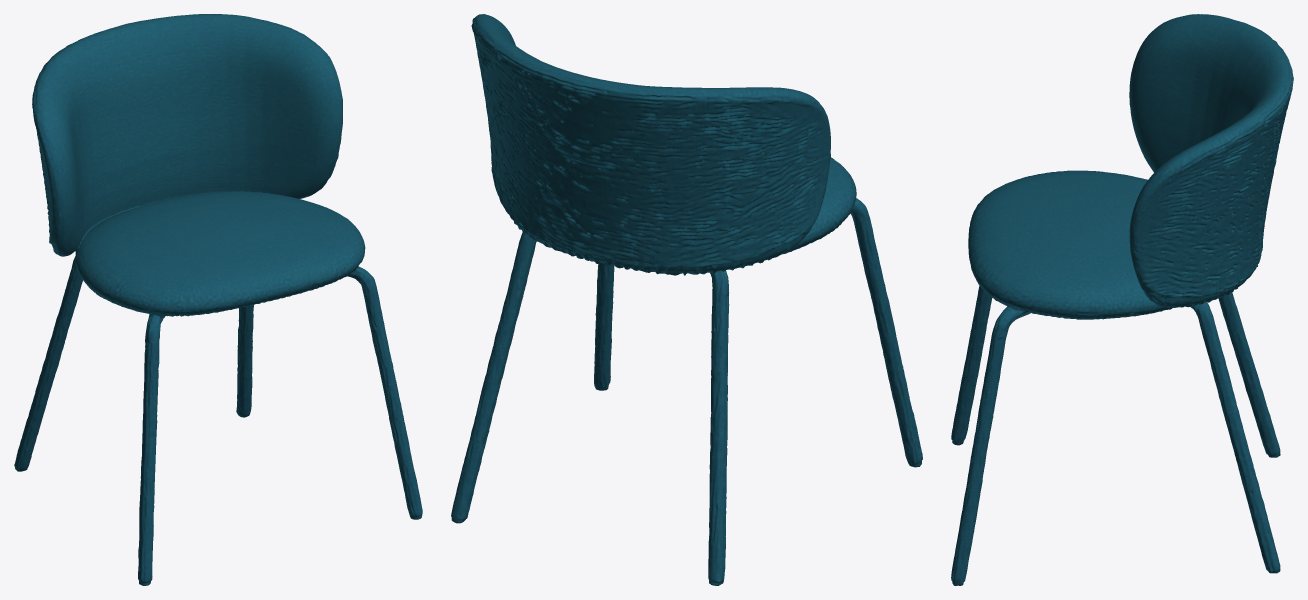
File: Modern Upholstered Side Chair with Metal Legs [UC5ytt].glb
3 views of the same model, side by side, from view 1: azimuth 30°, elevation 25°; view 2: azimuth 150°, elevation 25°; view 3: azimuth 270°, elevation 25° (orthographic). The views are drawn at different scales.
Visible parts, largest first — view 1: world; view 2: world; view 3: world.
Boxes of the visible parts, bbox=[...] form: world: bbox=[14, 14, 422, 585]; world: bbox=[451, 14, 922, 585]; world: bbox=[951, 14, 1293, 585].
Size of the model in its own units: 0.7472 by 1 by 0.7062.
Materials: 1 (1 with a texture image).
